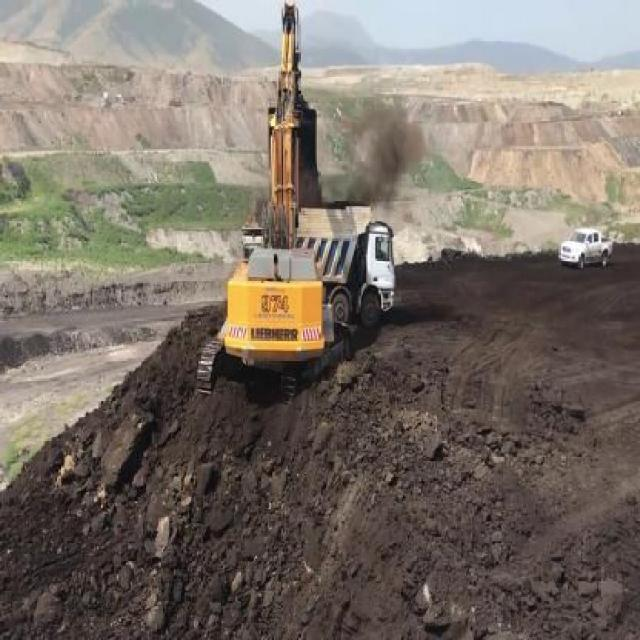Dump Truck: (319, 202, 396, 327)
Excavator: (198, 4, 350, 401)
